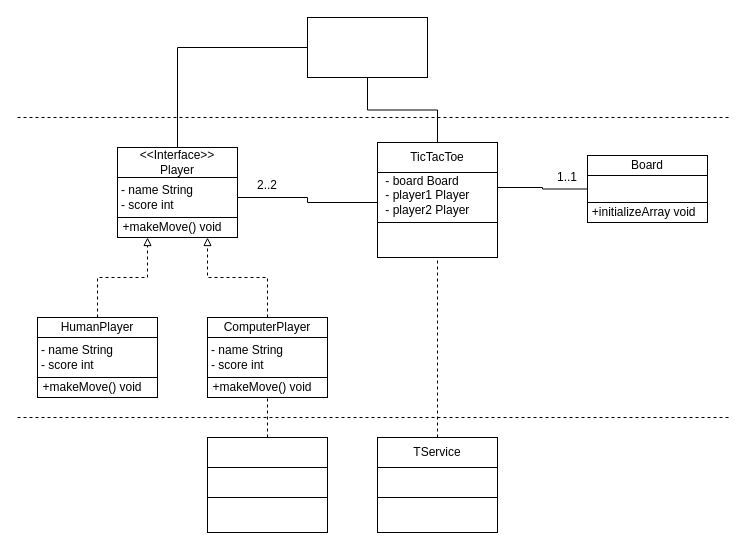
The diagram is 749 pixels wide and 550 high, and some of its shapes have lost their labels. The centre of each missing label's shape, as x and y in pixels:
+ playRound() void + isGameWon() void: point (437, 240)
- field int[ ][ ]: point (647, 188)
Interface: point (367, 47)
PService: point (267, 452)
